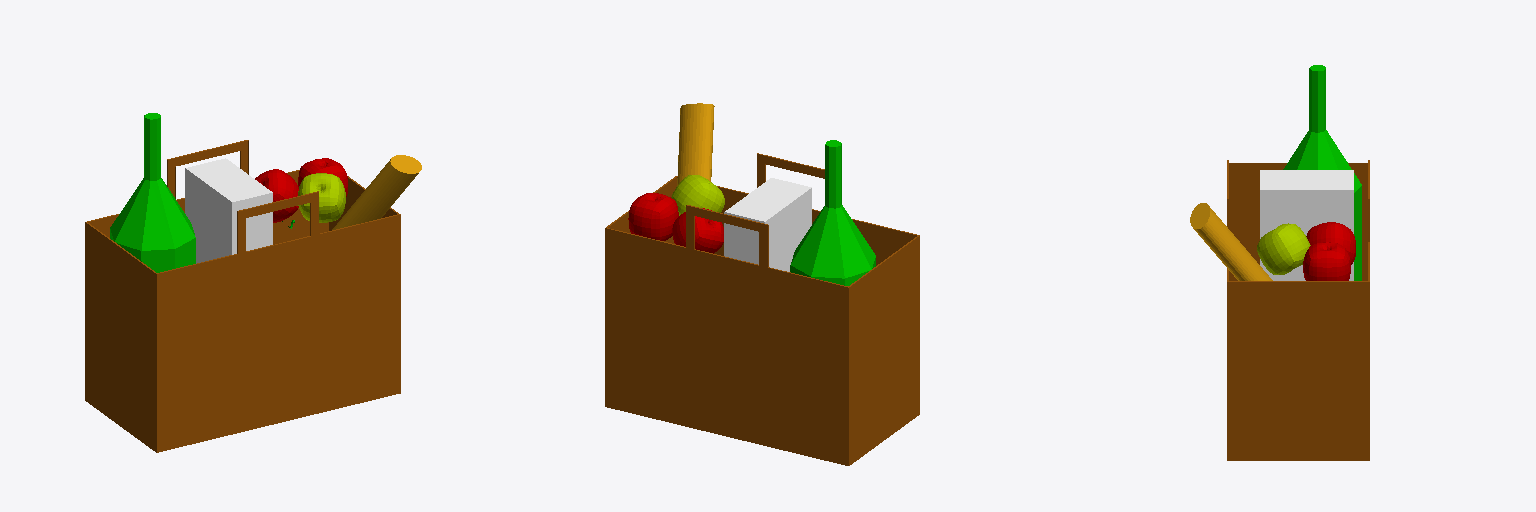
The model's file is sac.obj.
3 renders of one model, left to right at view 1: azimuth 30°, elevation 25°; view 2: azimuth 150°, elevation 25°; view 3: azimuth 270°, elevation 25°, orthographic.
Visible parts, largest first — view 1: Cube.001, ungrouped, Cube_Cube.003, Cylinder, Cube.001_Cube.002, Pomme_Cube.001, Cube.002; view 2: Cube.001, ungrouped, Cube_Cube.003, Cylinder, Cube.002, Cube.001_Cube.002, Pomme_Cube.001; view 3: Cube.001, Cube_Cube.003, ungrouped, Cylinder, Cube.001_Cube.002, Cube.002, Pomme_Cube.001.
Part boxes in pixels (left/top/right/bottom): Cube.001: left=85, top=140, right=400, bottom=452; ungrouped: left=110, top=113, right=195, bottom=272; Cube_Cube.003: left=185, top=158, right=272, bottom=263; Cylinder: left=332, top=155, right=421, bottom=229; Cube.001_Cube.002: left=298, top=173, right=345, bottom=222; Pomme_Cube.001: left=255, top=169, right=298, bottom=222; Cube.002: left=298, top=158, right=347, bottom=196; Cube.001: left=605, top=153, right=919, bottom=465; ungrouped: left=790, top=140, right=875, bottom=285; Cube_Cube.003: left=724, top=178, right=811, bottom=271; Cylinder: left=677, top=103, right=714, bottom=185; Cube.002: left=628, top=193, right=678, bottom=240; Cube.001_Cube.002: left=671, top=175, right=724, bottom=215; Pomme_Cube.001: left=672, top=208, right=723, bottom=253; Cube.001: left=1227, top=160, right=1369, bottom=460; Cube_Cube.003: left=1260, top=170, right=1353, bottom=280; ungrouped: left=1283, top=65, right=1361, bottom=280; Cylinder: left=1190, top=203, right=1272, bottom=280; Cube.001_Cube.002: left=1257, top=223, right=1310, bottom=274; Cube.002: left=1303, top=242, right=1350, bottom=280; Pomme_Cube.001: left=1306, top=222, right=1355, bottom=264.
Bounding box in the file's own units: 30.94 × 34.5 × 19.12.